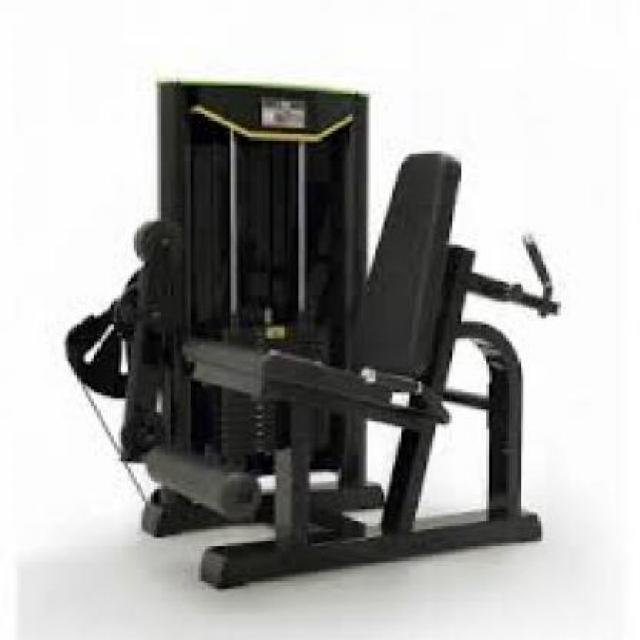leg extension: (56, 69, 566, 603)
